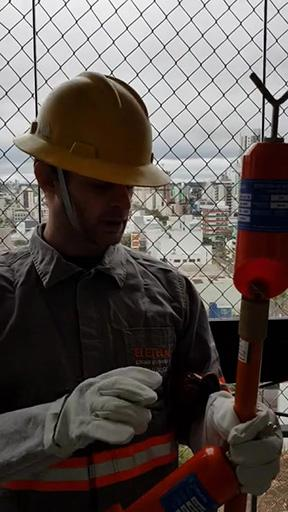Detector_Tensao_Contato: (232, 70, 288, 299)
